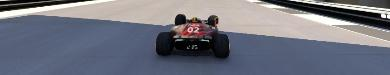Car: (155, 13, 230, 57)
